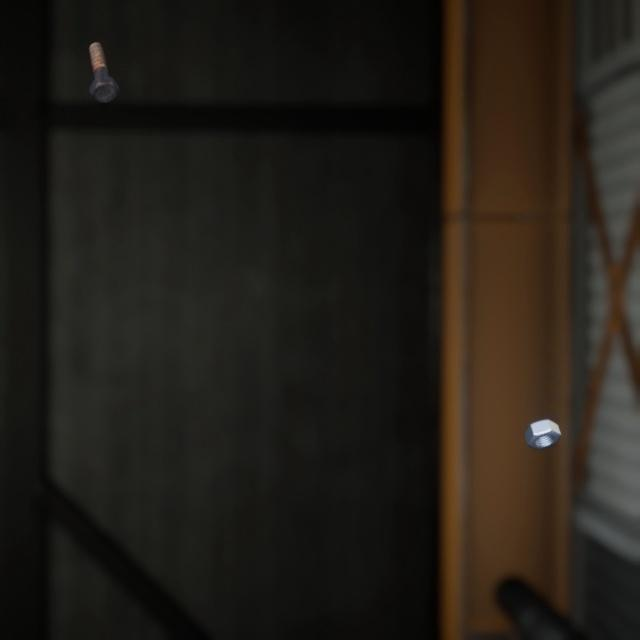bolt: (84, 28, 124, 97)
nut: (519, 394, 566, 434)
